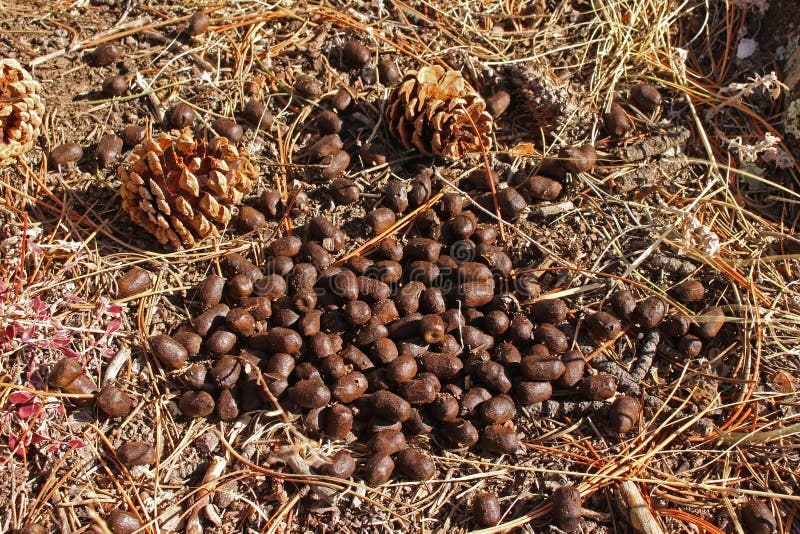Elk: (222, 123, 587, 426)
